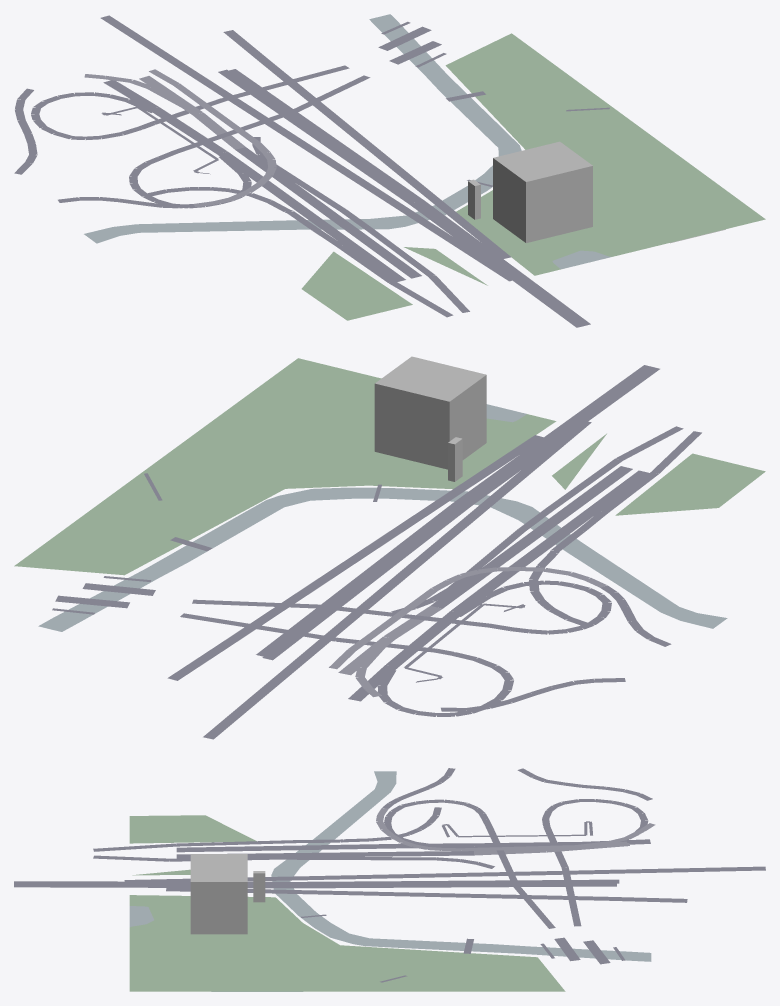
Rendered from 135_112_mid.glb.
3 renders of one model, top to bottom at view 1: azimuth 30°, elevation 25°; view 2: azimuth 150°, elevation 25°; view 3: azimuth 270°, elevation 25°, orthographic. The views are drawn at different scales.
Size of the model in its own units: 500 by 56.32 by 721.
